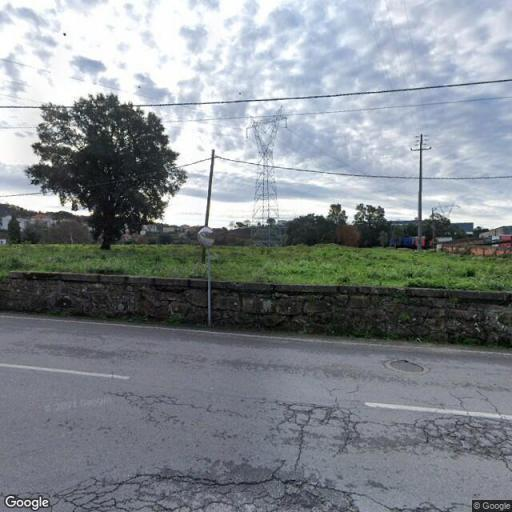mono_9: (410, 132, 431, 250)
wt_5: (246, 105, 286, 250), (431, 200, 465, 226)
